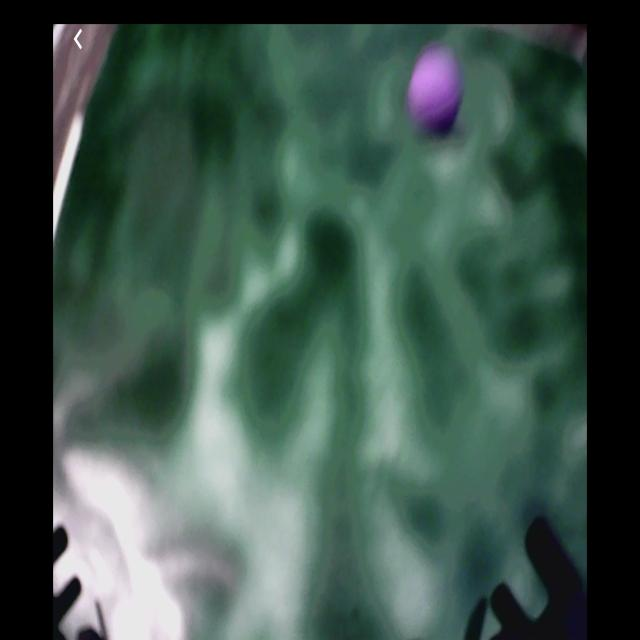ball: (409, 44, 463, 131)
